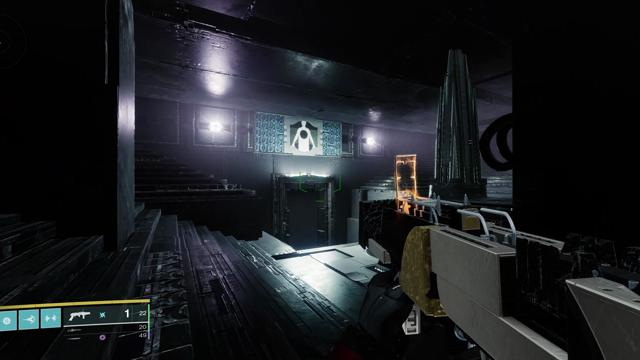grief: (290, 121, 318, 151)
